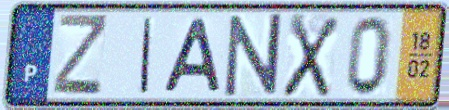0: (343, 12, 394, 99)
A: (160, 16, 224, 95)
I: (137, 15, 156, 96)
N: (223, 11, 284, 100)
X: (279, 11, 342, 100)
Z: (50, 12, 111, 99)
